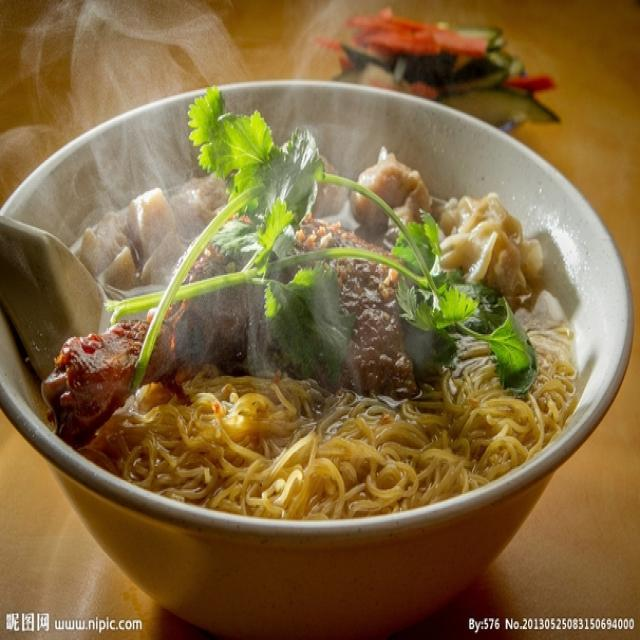面条主食: (9, 61, 621, 596)
